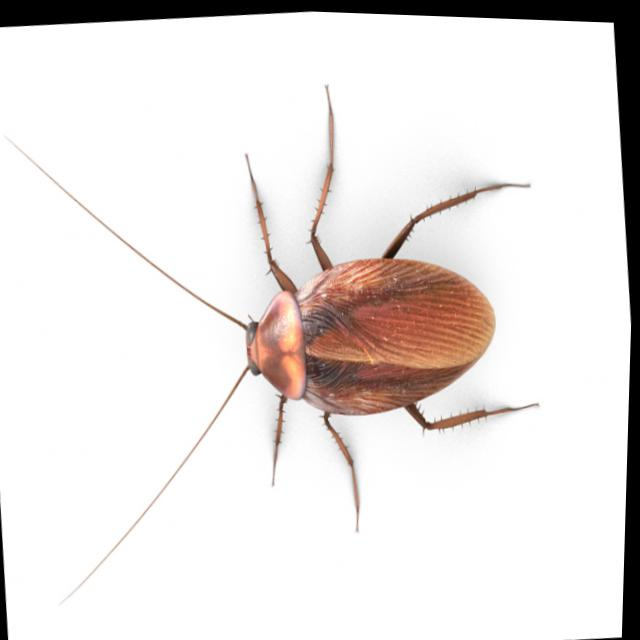Cockroach: (0, 36, 575, 636)
